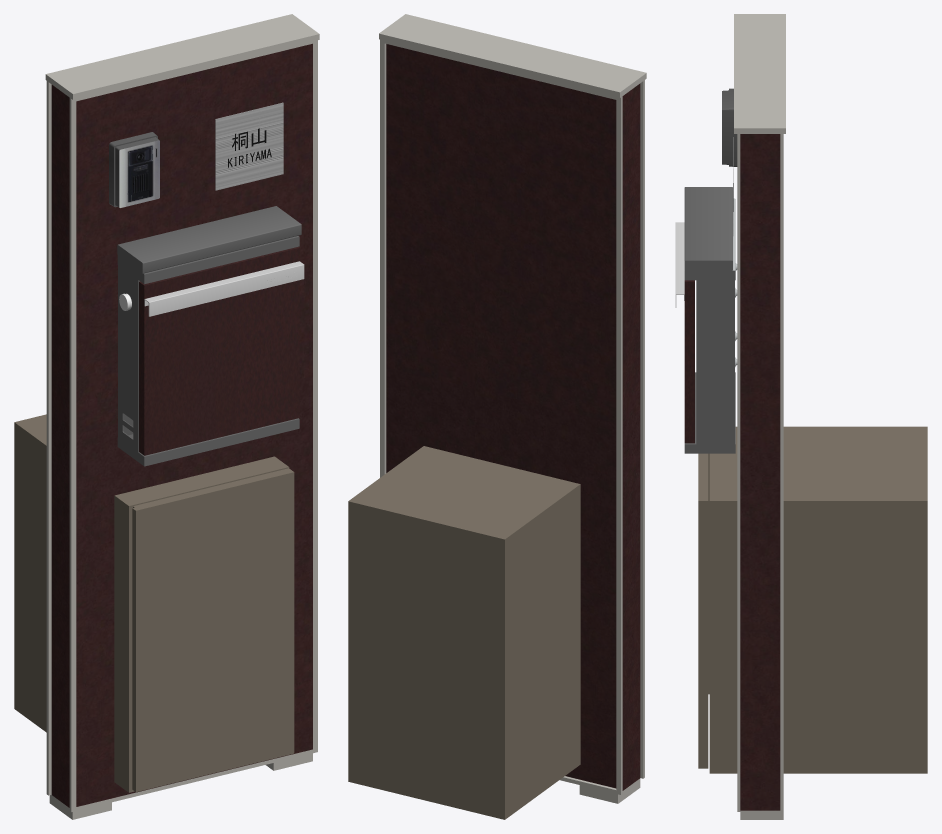
File: de-boxmonchu_rustycopper.fbx
The picture shows the model from 3 angles, left to right: view 1: azimuth 30°, elevation 25°; view 2: azimuth 150°, elevation 25°; view 3: azimuth 270°, elevation 25°; orthographic projection. The views are drawn at different scales.
Parts seen in each view (by area): view 1: ruatycopper; view 2: ruatycopper; view 3: ruatycopper.
Boxes of the visible parts, x1,y1,x2,y2 form: ruatycopper: (14, 14, 319, 819); ruatycopper: (348, 14, 646, 819); ruatycopper: (675, 14, 927, 819).
Bounding box in the file's own units: 53.1 × 150 × 49.46.
Materials: 14 (4 with a texture image).
